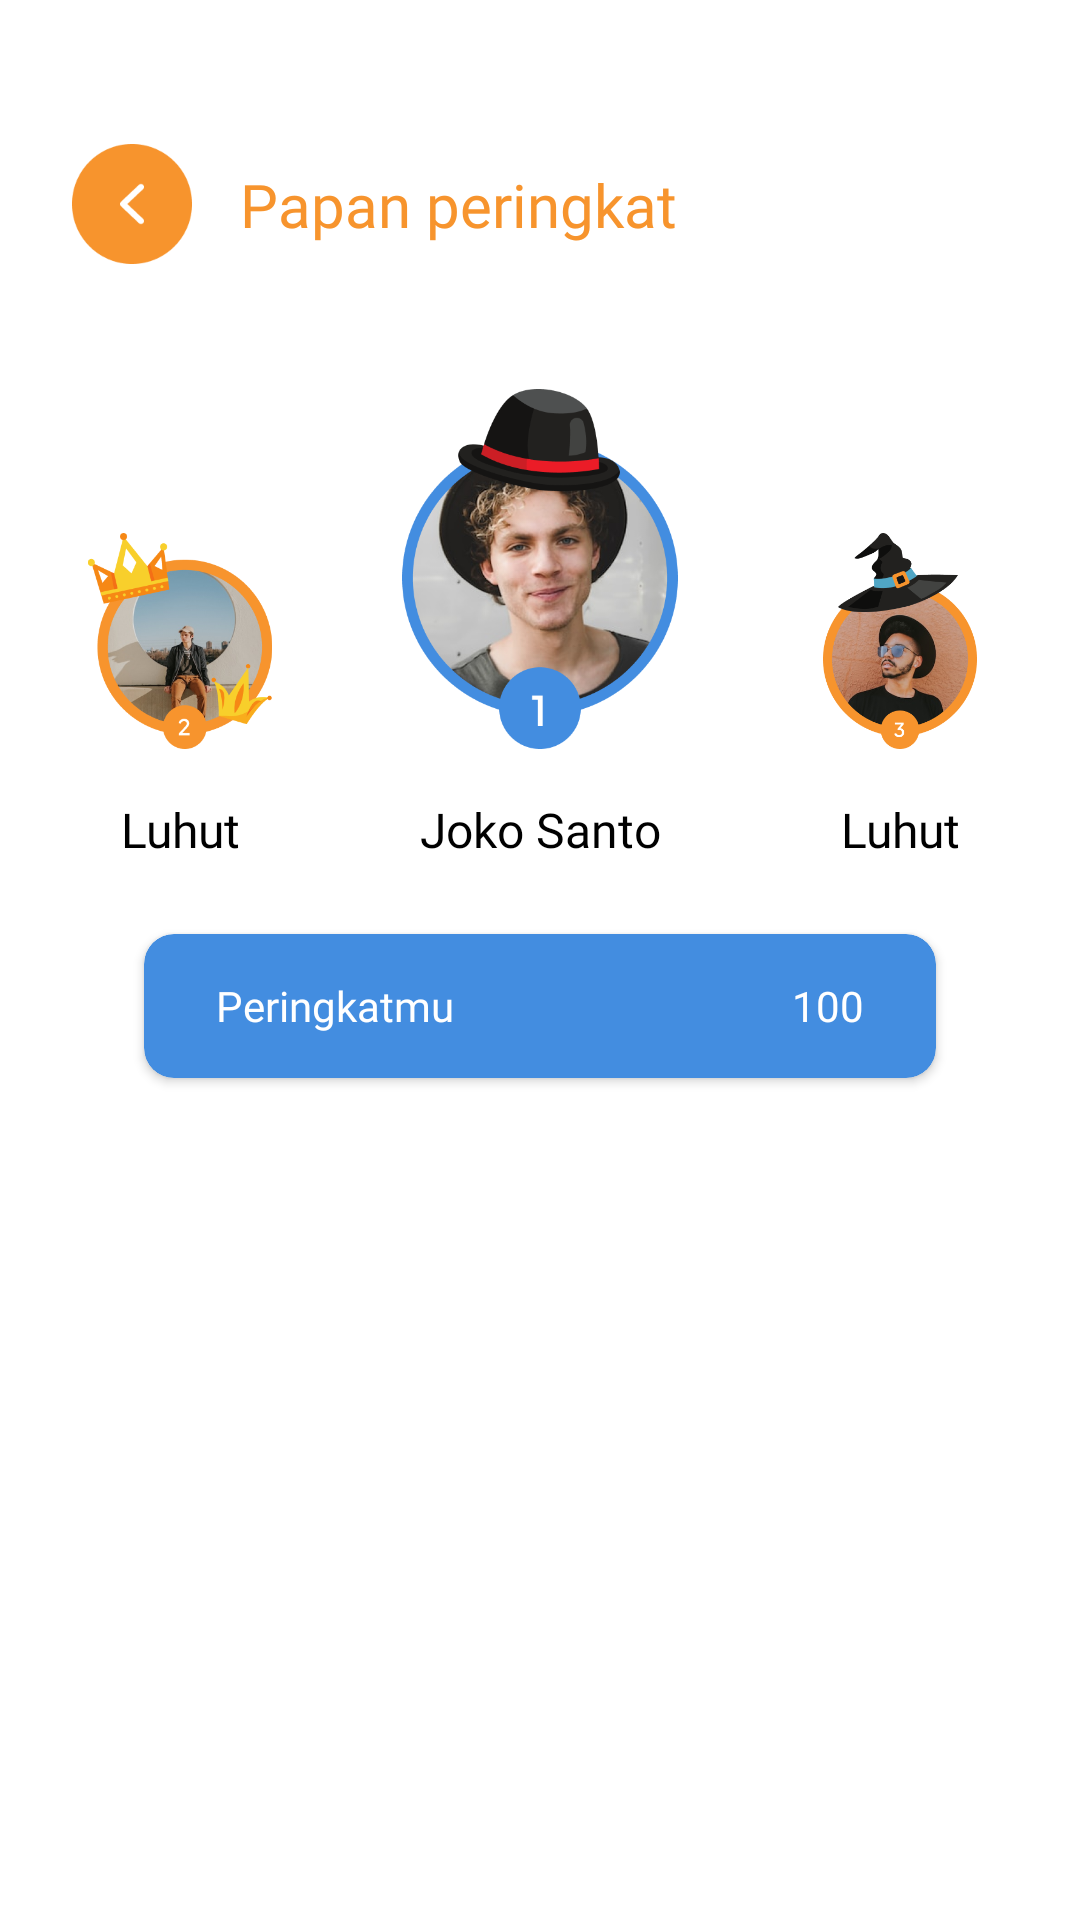

Where icons sit on this 1080x1920 app screen, as BBox(x1, y1, x2, y2):
arrow back: BBox(72, 144, 192, 264)
rank: BBox(402, 389, 678, 749), BBox(88, 533, 272, 749), BBox(823, 533, 977, 749)
